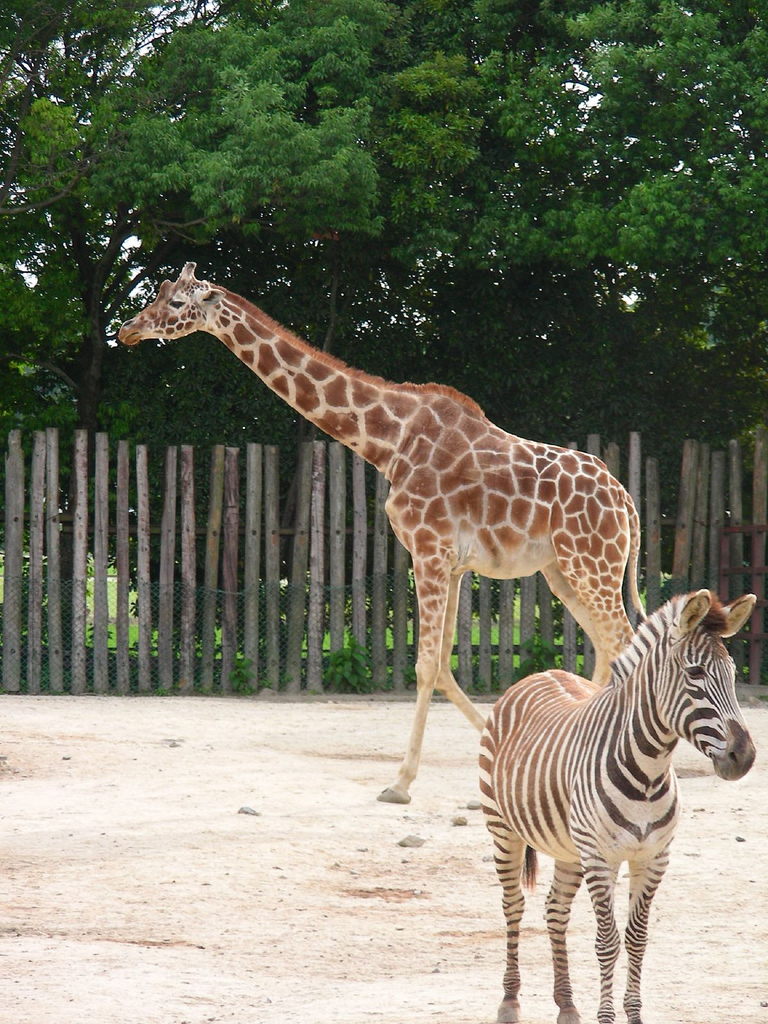giraffe: (92, 238, 656, 772)
